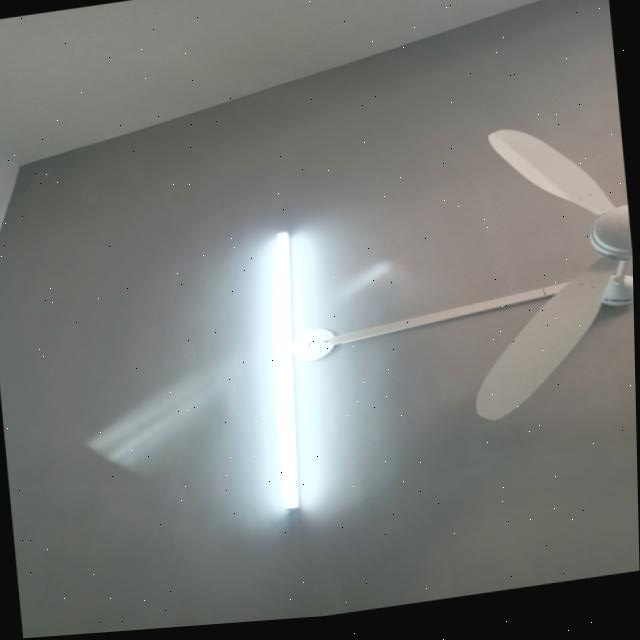fluorescent tube: (251, 224, 328, 526)
